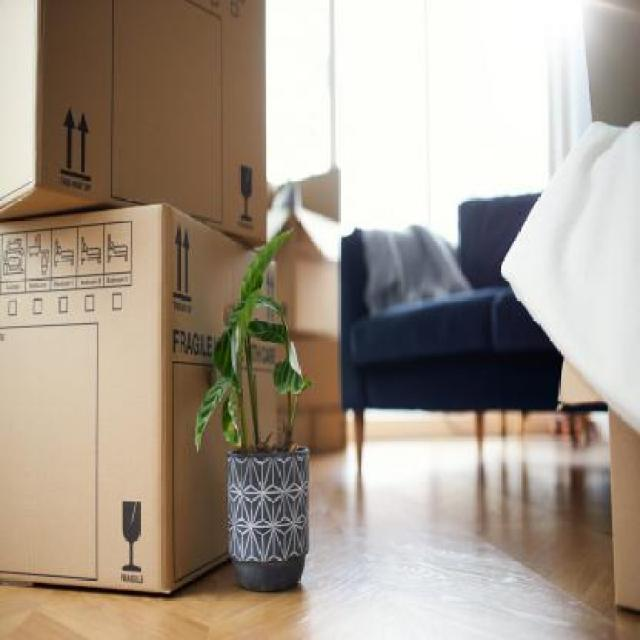box: (0, 208, 281, 596), (0, 0, 267, 248), (262, 171, 343, 341)
